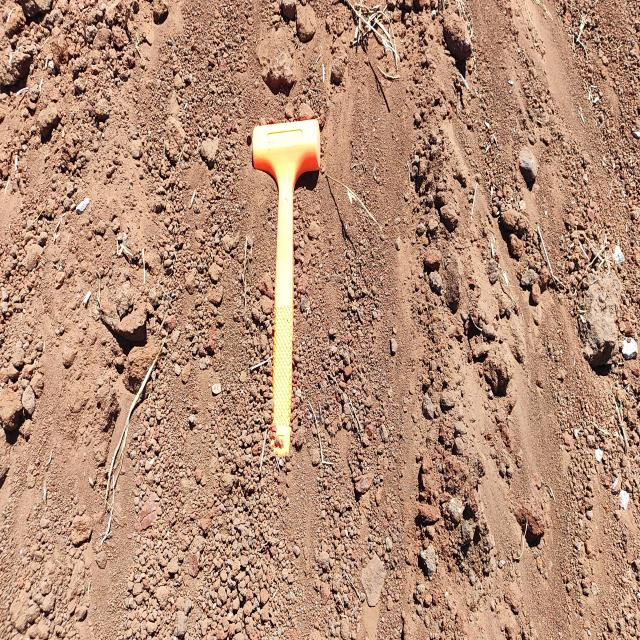Orange_hammer: (251, 117, 321, 461)
